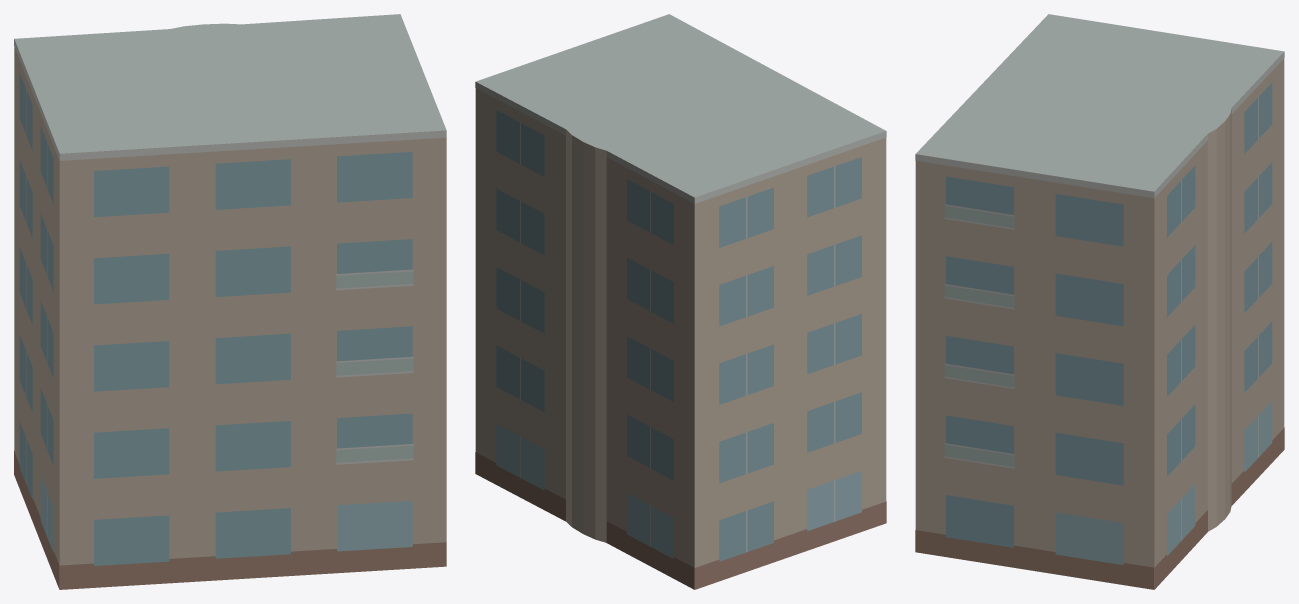
The model's file is survey-upis-32808816.glb.
3 renders of one model, left to right at view 1: azimuth 30°, elevation 25°; view 2: azimuth 150°, elevation 25°; view 3: azimuth 270°, elevation 25°, orthographic. The views are drawn at different scales.
Parts seen in each view (by area): view 1: survey-upis-32808816.tmp; view 2: survey-upis-32808816.tmp; view 3: survey-upis-32808816.tmp.
Part boxes in pixels (left/top/right/bottom): survey-upis-32808816.tmp: left=14, top=14, right=446, bottom=589; survey-upis-32808816.tmp: left=475, top=14, right=886, bottom=589; survey-upis-32808816.tmp: left=915, top=14, right=1284, bottom=589.
Size of the model in its own units: 14.32 by 14.95 by 12.57.
